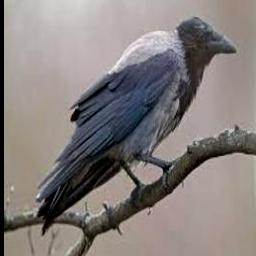Crow: (36, 15, 237, 234)
